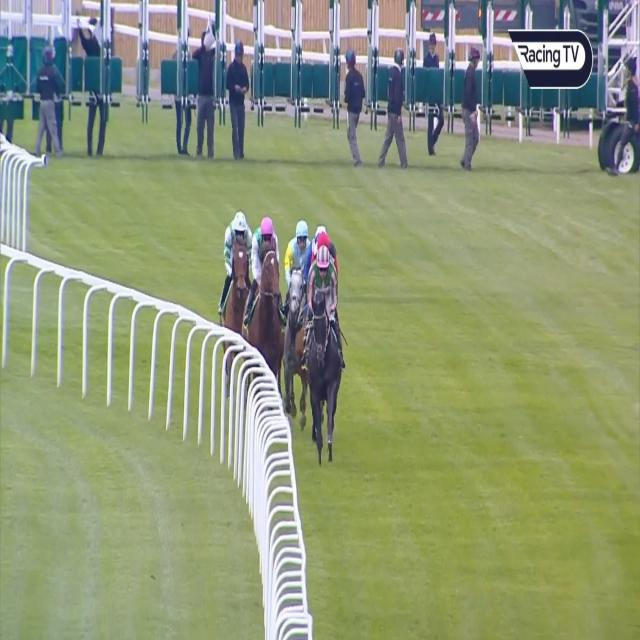horses-racing: (302, 247, 342, 455), (282, 216, 314, 400), (250, 210, 284, 375), (222, 209, 254, 370), (312, 220, 334, 258)
